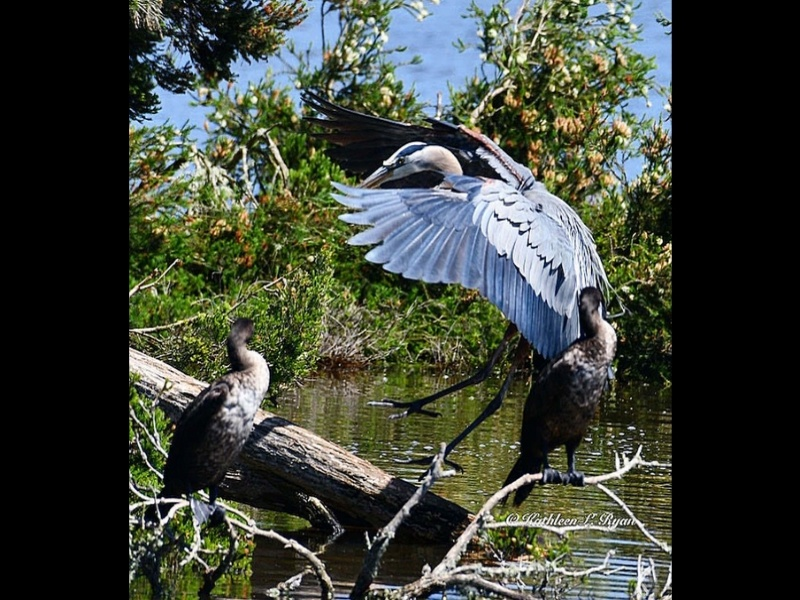heron: (303, 87, 623, 456)
